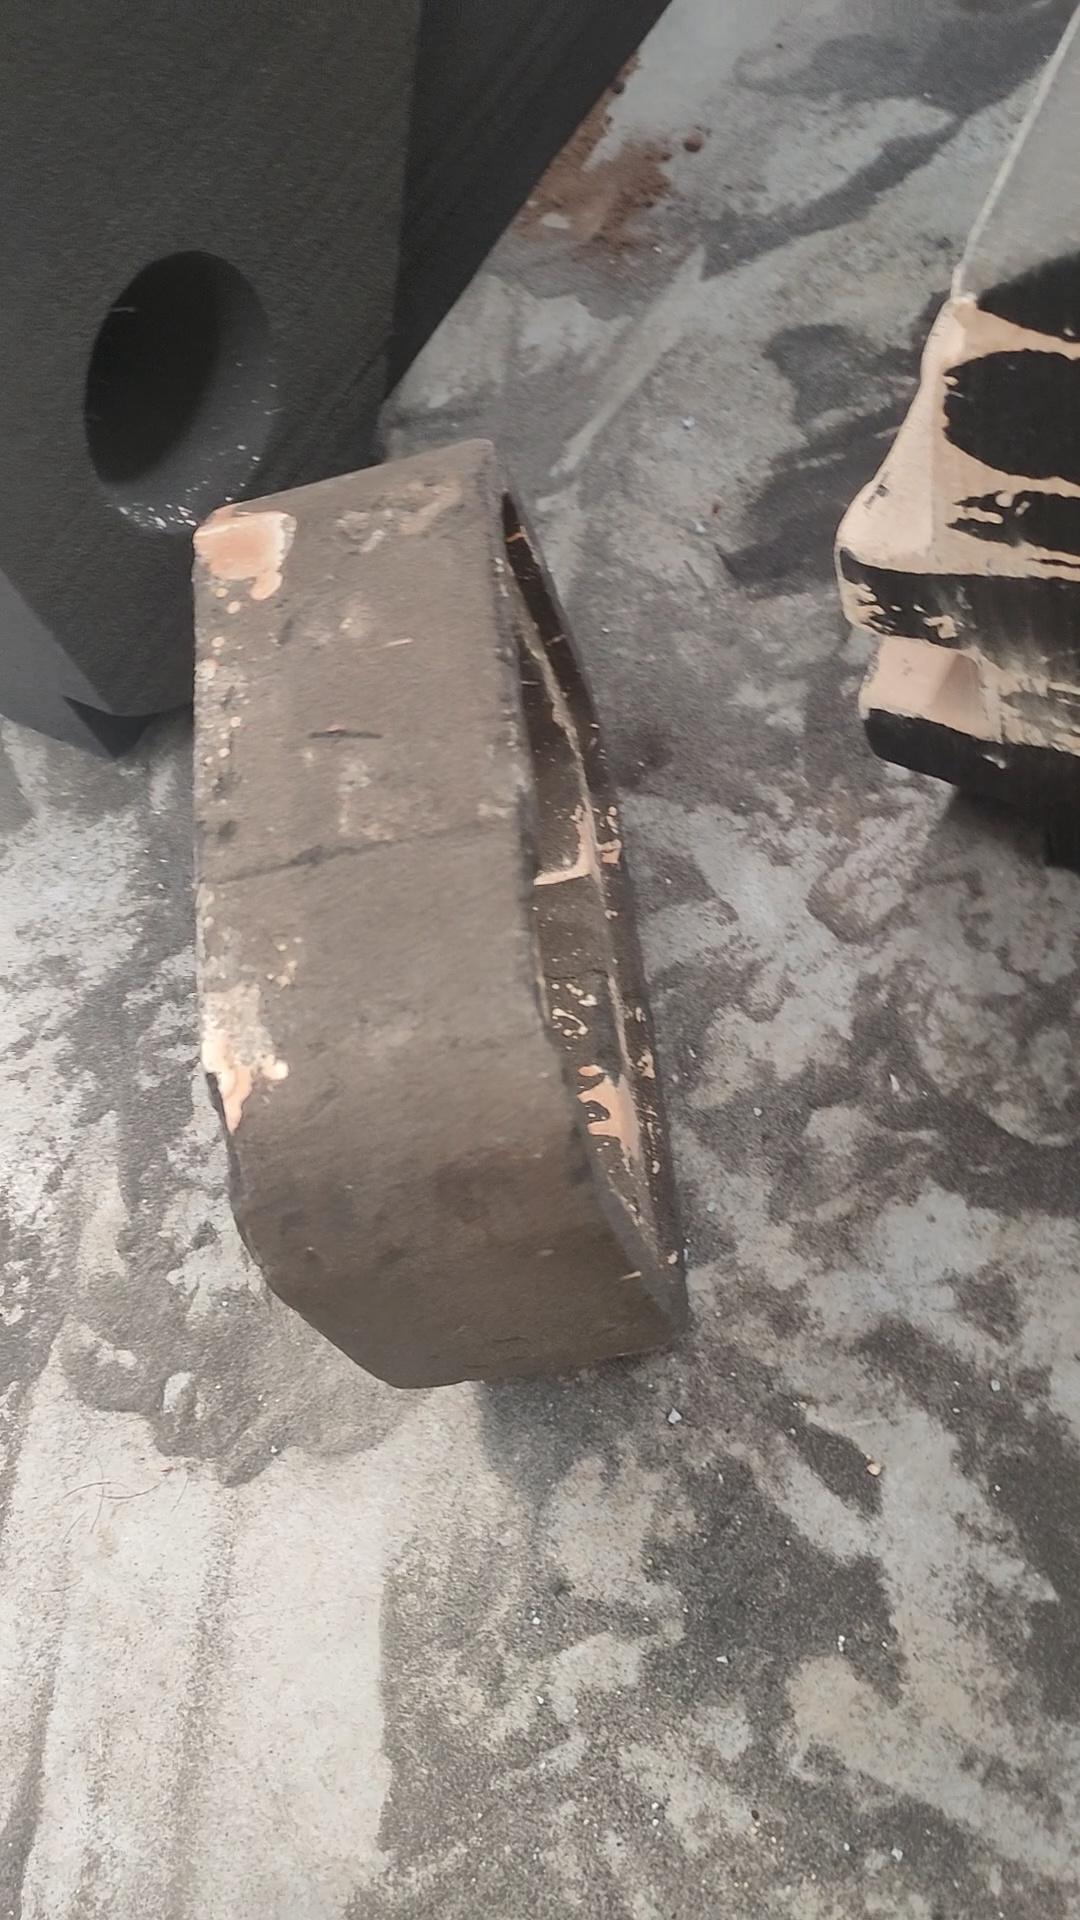pouring hole: (82, 247, 280, 538)
